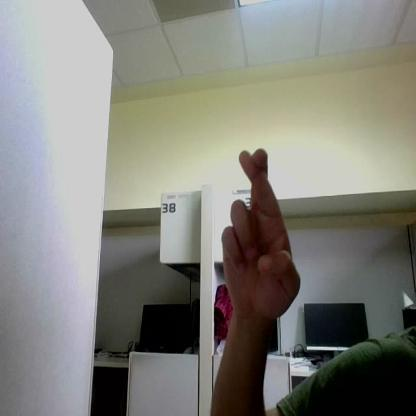R: (222, 149, 301, 318)
